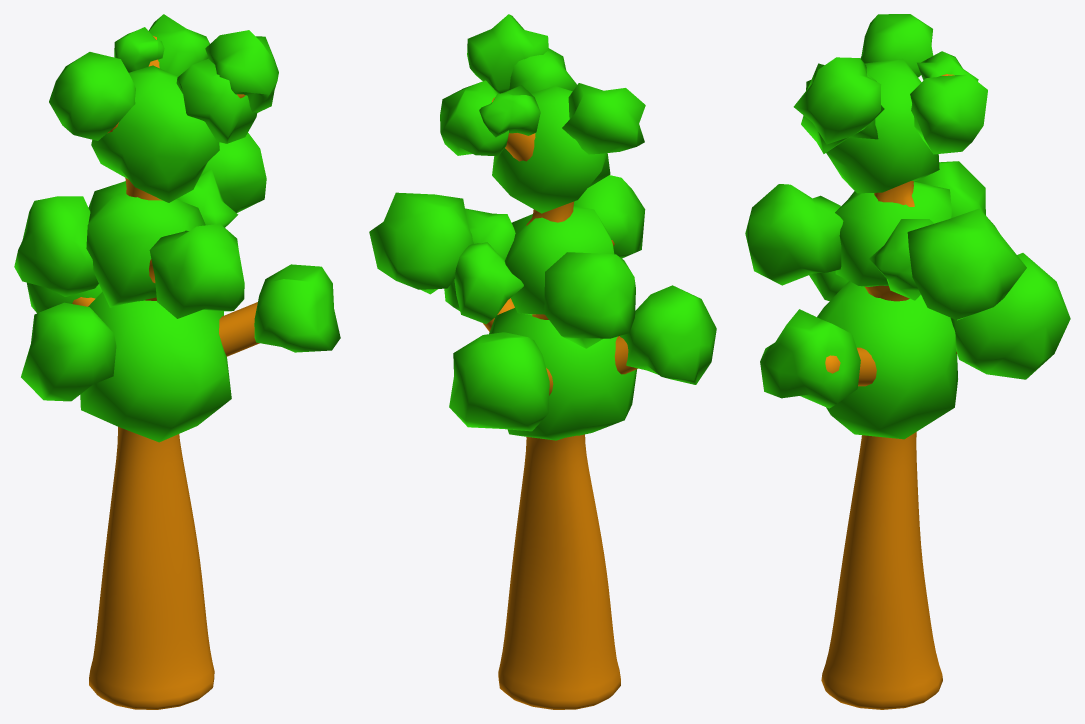
Rendered from Tree2-alt.fbx.
The picture shows the model from 3 angles, left to right: view 1: azimuth 30°, elevation 25°; view 2: azimuth 150°, elevation 25°; view 3: azimuth 270°, elevation 25°; orthographic projection. The views are drawn at different scales.
Parts seen in each view (by area): view 1: Tree2; view 2: Tree2; view 3: Tree2.
Boxes of the visible parts, x1,y1,x2,y2 form: Tree2: [14, 14, 340, 709]; Tree2: [369, 14, 716, 709]; Tree2: [745, 14, 1070, 709].
Size of the model in its own units: 555 by 1235 by 544.
